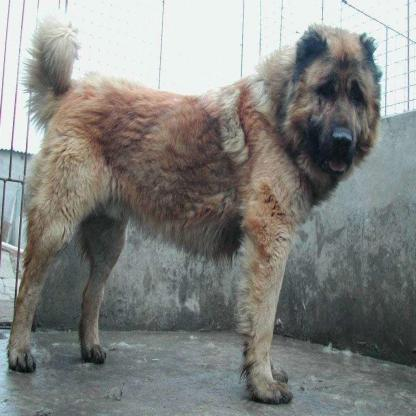Tibetan_mastiff: (6, 11, 382, 402)
